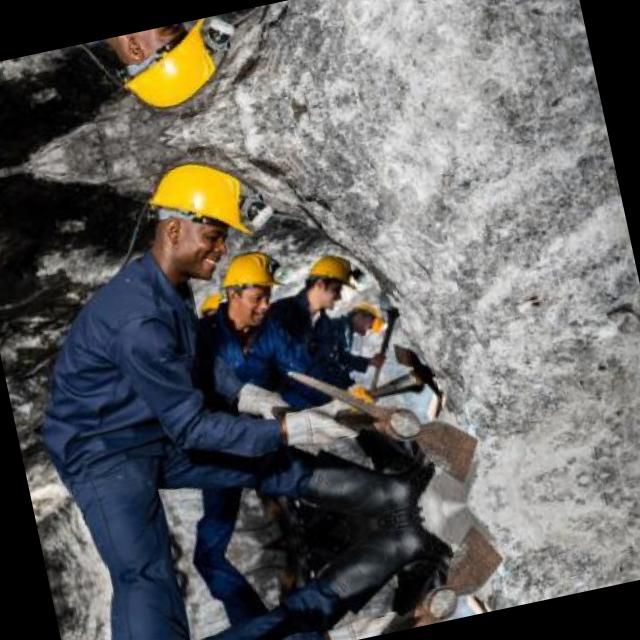helmet: (123, 137, 271, 294), (98, 14, 238, 132), (210, 240, 288, 328), (294, 245, 360, 312), (345, 296, 384, 334), (196, 288, 228, 316)
